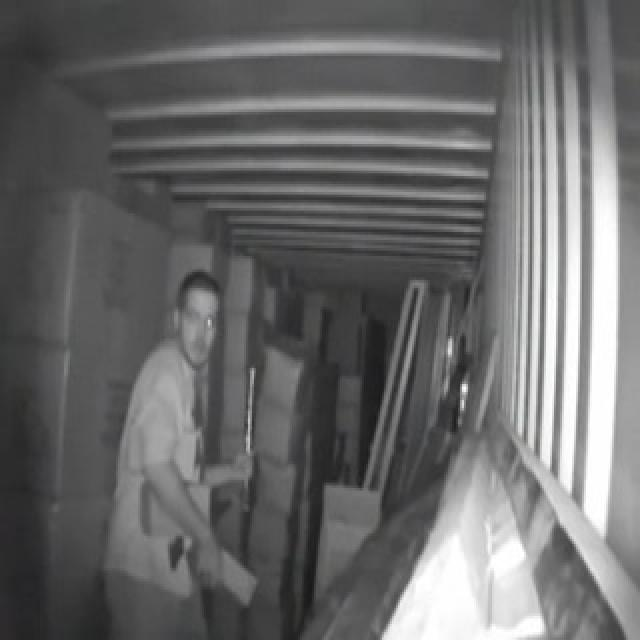thief: (100, 272, 262, 640)
